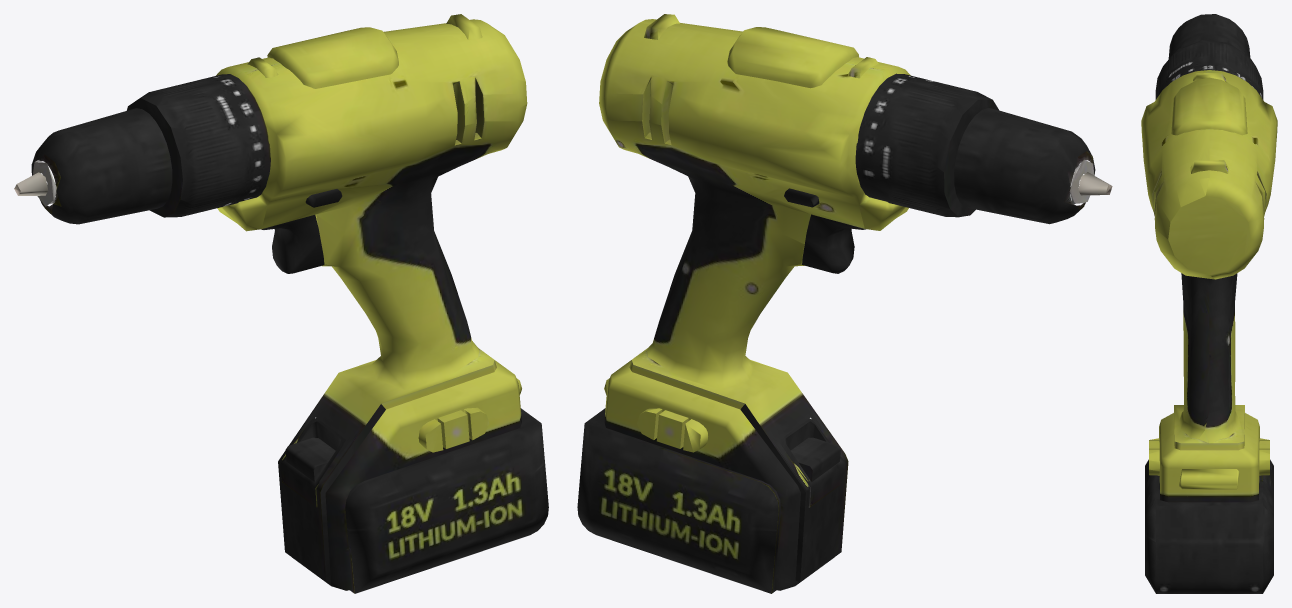
Rendered from drill-01.glb.
The picture shows the model from 3 angles, left to right: view 1: azimuth 30°, elevation 25°; view 2: azimuth 150°, elevation 25°; view 3: azimuth 270°, elevation 25°; orthographic projection. The views are drawn at different scales.
Parts seen in each view (by area): view 1: drill_01; view 2: drill_01; view 3: drill_01.
Boxes of the visible parts, box(x1,y1,x2,y2) form: drill_01: box(14, 14, 548, 593); drill_01: box(577, 14, 1112, 593); drill_01: box(1141, 14, 1277, 593).
Size of the model in its own units: 0.1829 by 0.1851 by 0.0519.
Materials: 1 (1 with a texture image).
